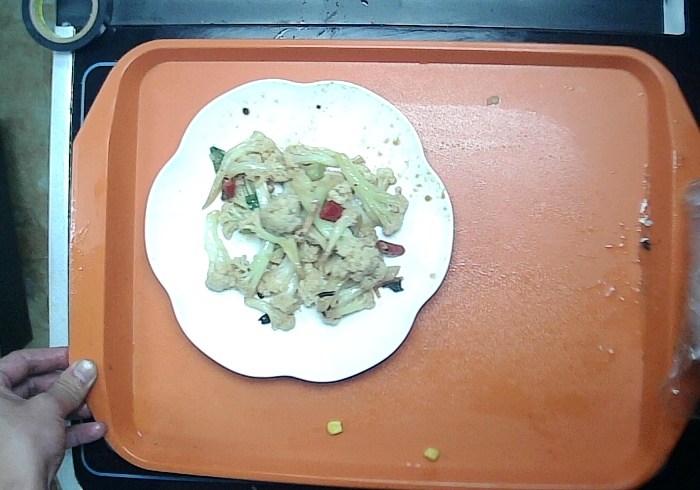HZYJPL-Bai_Se_Hua_Duo_Wan: (141, 76, 455, 384)
